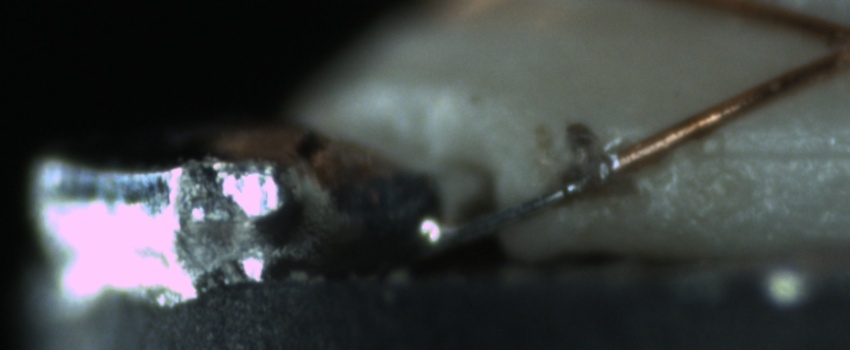DL: (692, 126, 850, 190)
TS: (440, 159, 617, 248)
TTCW: (438, 133, 668, 243)
